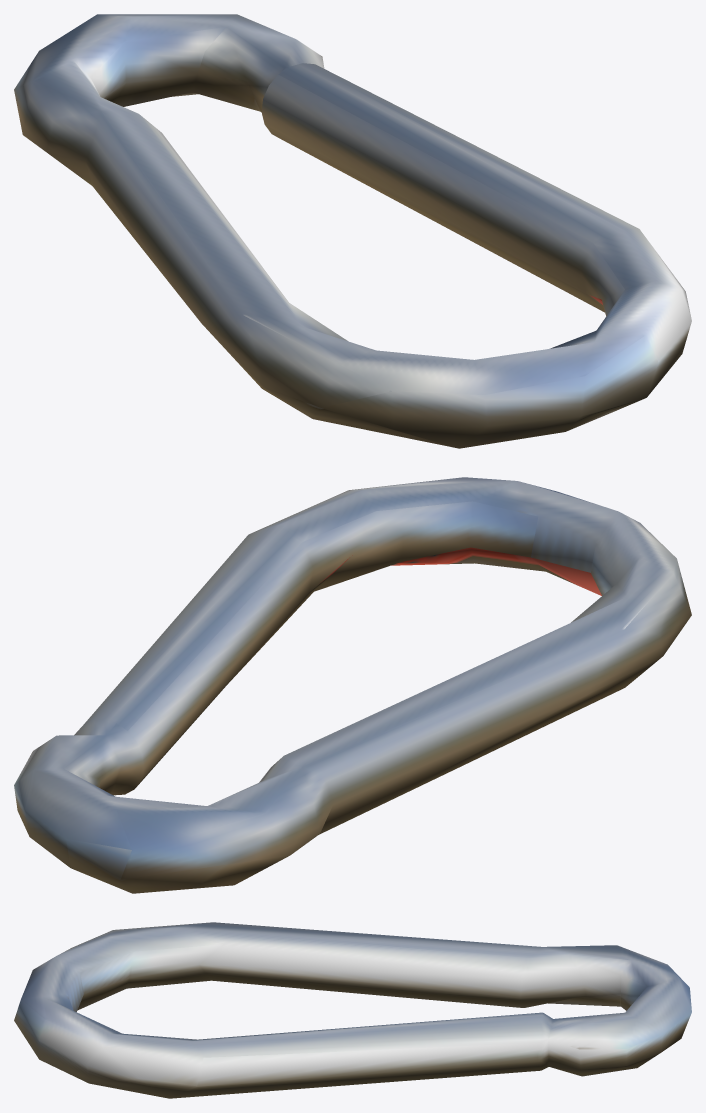
Rendered from WorldItem-AZCarabiner.fbx.
The picture shows the model from 3 angles, top to bottom: view 1: azimuth 30°, elevation 25°; view 2: azimuth 150°, elevation 25°; view 3: azimuth 270°, elevation 25°; orthographic projection. The views are drawn at different scales.
Visible parts, largest first — view 1: Cylinder; view 2: Cylinder; view 3: Cylinder.
Part boxes in pixels (x1,y1,x2,y2): Cylinder: (14, 14, 691, 448); Cylinder: (14, 477, 691, 893); Cylinder: (14, 922, 691, 1098).
Bounding box in the file's own units: 0.0707 × 0.0151 × 0.1438.
